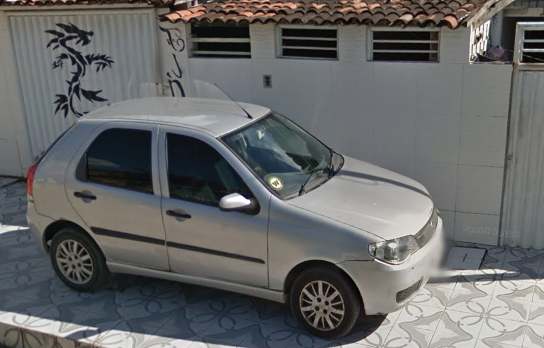car: (25, 79, 447, 341)
